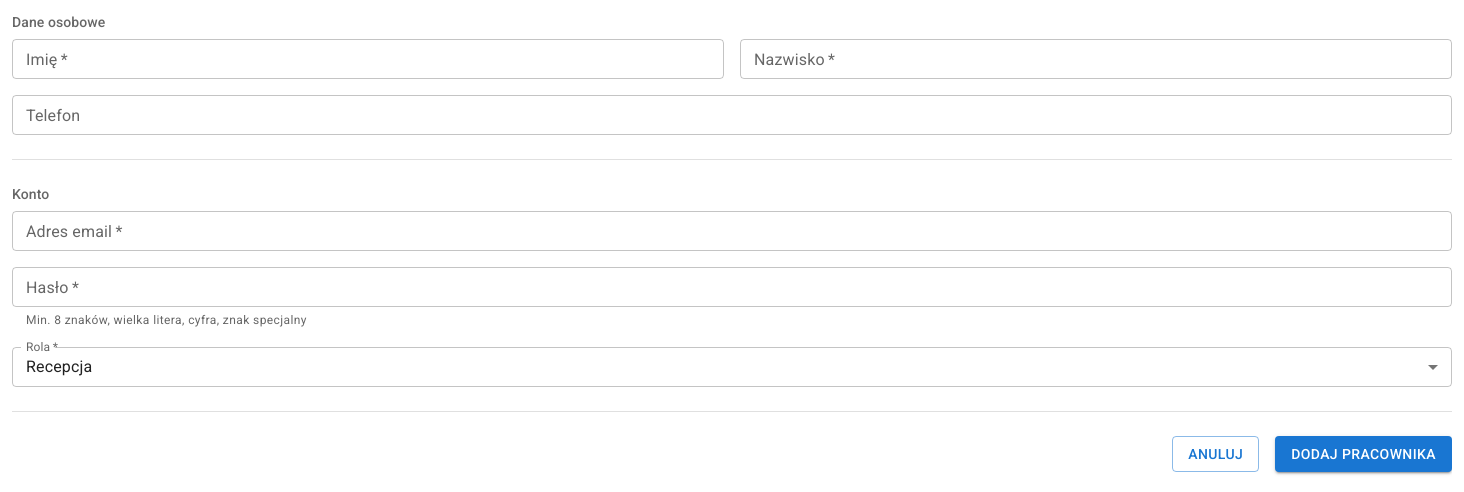
Test: UserForm — Create mode › should show password validation error for weak password
The width and height of the screenshot is (1464, 492).
In the password field labelled "Hasło *": coordinates (732, 287) [12, 267, 1452, 307], type "weak"
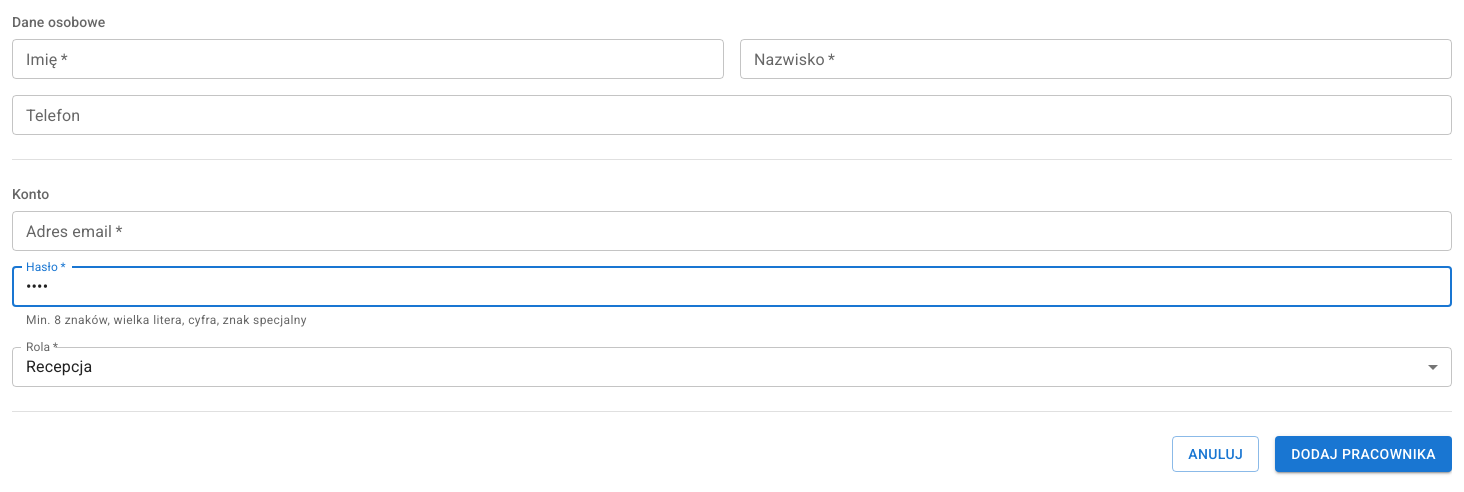
Press Tab
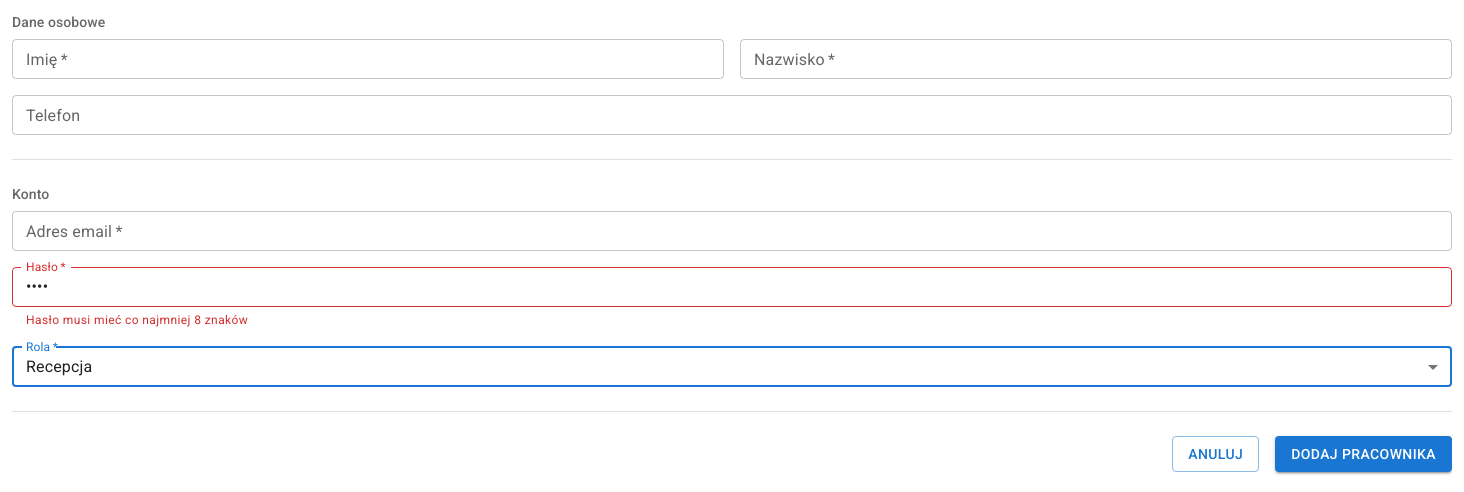
Check: the text "Hasło musi mieć co najmniej 8 znaków" is shown, box [26, 313, 248, 327]
